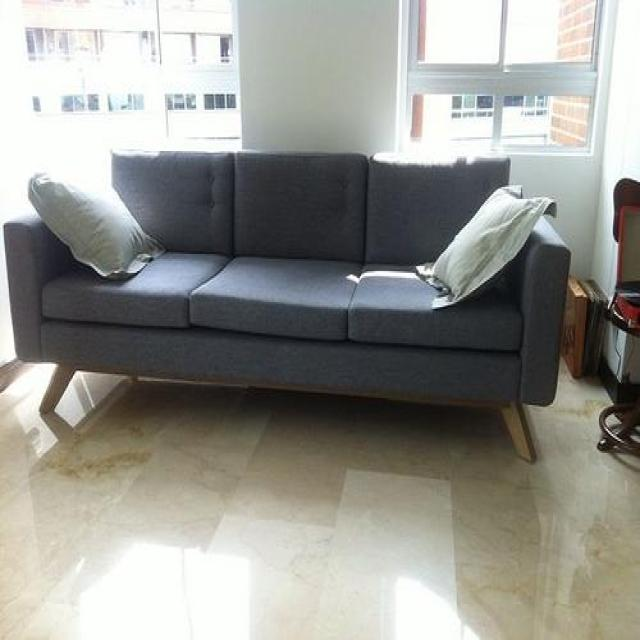sofa: (3, 148, 572, 463)
